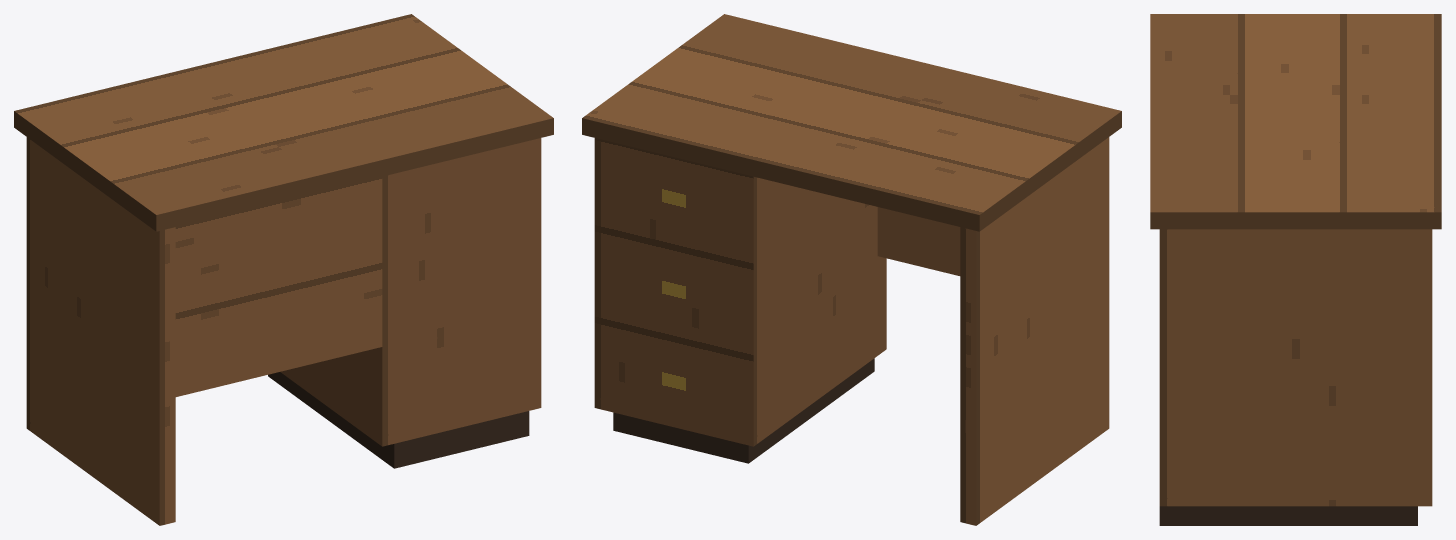
Rendered from f_desk.glb.
3 renders of one model, left to right at view 1: azimuth 30°, elevation 25°; view 2: azimuth 150°, elevation 25°; view 3: azimuth 270°, elevation 25°, orthographic. The views are drawn at different scales.
Visible parts, largest first — view 1: block_top, block_pedestal, block_panel, block_modesty, block_pedestal-plinth; view 2: block_pedestal, block_top, block_panel, block_pedestal-plinth, block_modesty; view 3: block_pedestal, block_top, block_pedestal-plinth.
Boxes of the visible parts, x1,y1,x2,y2 form: block_top: (14,14,553,231); block_pedestal: (280,138,541,446); block_panel: (26,137,175,525); block_modesty: (175,177,382,396); block_pedestal-plinth: (268,372,529,468); block_pedestal: (594,138,886,446); block_top: (582,14,1121,231); block_panel: (960,137,1109,525); block_pedestal-plinth: (613,358,874,463); block_modesty: (877,207,960,275); block_pedestal: (1159,229,1432,506); block_top: (1150,14,1441,229); block_pedestal-plinth: (1159,506,1417,525).
Bounding box in the file's own units: 1 × 0.76 × 0.62.
1 material, 1 textured.
